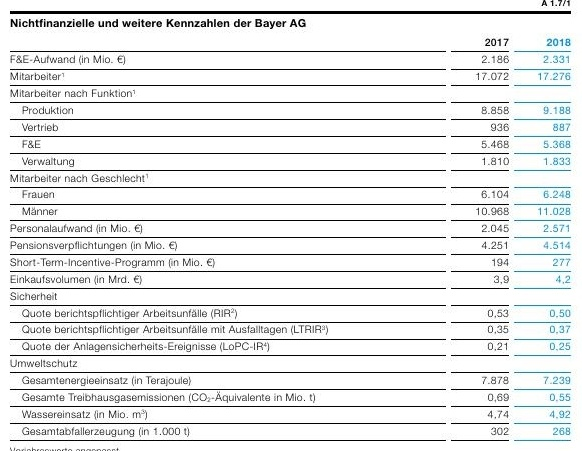table: (0, 0, 582, 451)
